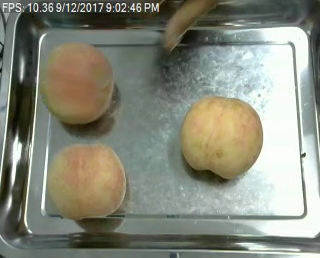Peach: (179, 95, 263, 180), (39, 42, 117, 125), (48, 143, 127, 220)
